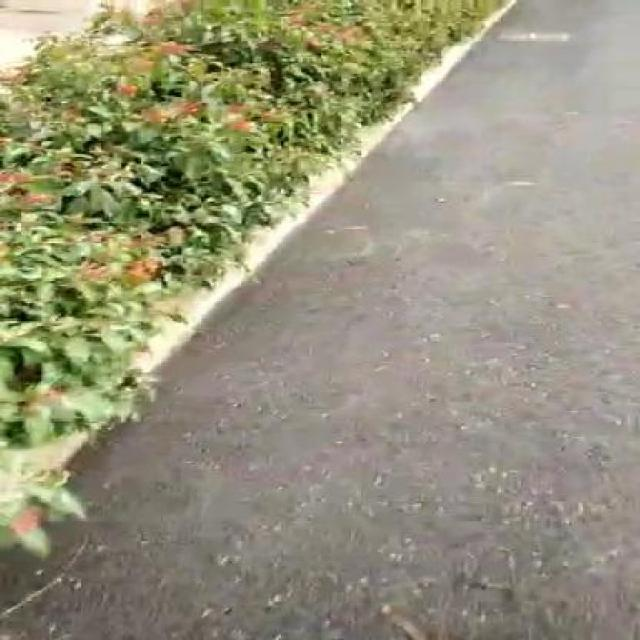Pothole: (497, 29, 572, 40)
